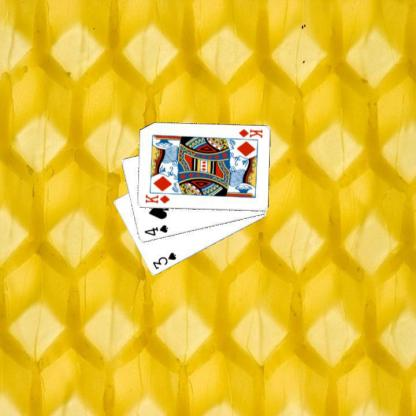3S: (150, 250, 178, 270)
4S: (142, 223, 169, 238)
KD: (143, 192, 171, 204), (236, 127, 263, 139)
